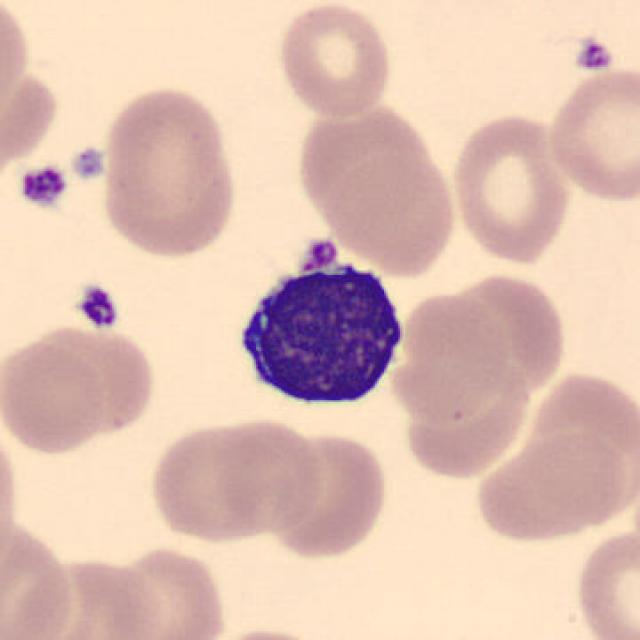Lymphocyte: (220, 238, 414, 416)
Platelets: (73, 280, 123, 332), (18, 162, 69, 212), (571, 33, 617, 76), (301, 229, 344, 271), (70, 142, 108, 182)
RBC: (95, 79, 236, 263), (446, 109, 574, 268), (144, 416, 292, 547), (471, 426, 633, 544), (516, 367, 638, 522), (320, 144, 460, 278), (4, 321, 140, 457), (386, 286, 514, 426), (263, 427, 391, 562), (437, 268, 571, 395), (208, 414, 327, 538), (274, 0, 394, 120), (542, 62, 640, 206), (12, 552, 169, 640), (101, 541, 231, 640), (0, 511, 78, 640), (570, 523, 638, 640), (0, 2, 32, 132), (0, 414, 23, 566), (192, 624, 345, 640)
